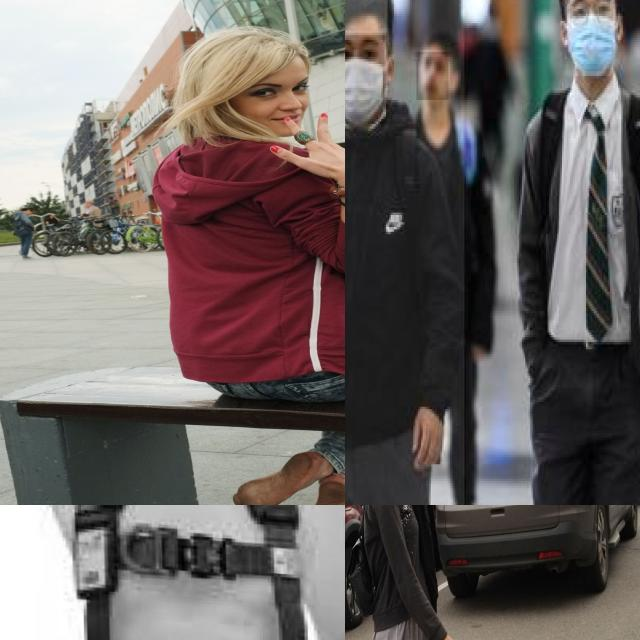Barefoots: (233, 451, 323, 505), (310, 474, 345, 505)
Harness: (74, 505, 305, 640)
face_mask: (565, 0, 616, 78), (345, 32, 385, 126)
face_nomask: (416, 52, 450, 102)
glasses: (567, 0, 620, 27)
hand_noglove: (408, 402, 448, 479)
head_nohelmet: (345, 0, 389, 35)
person: (488, 0, 640, 505), (345, 0, 466, 505)
